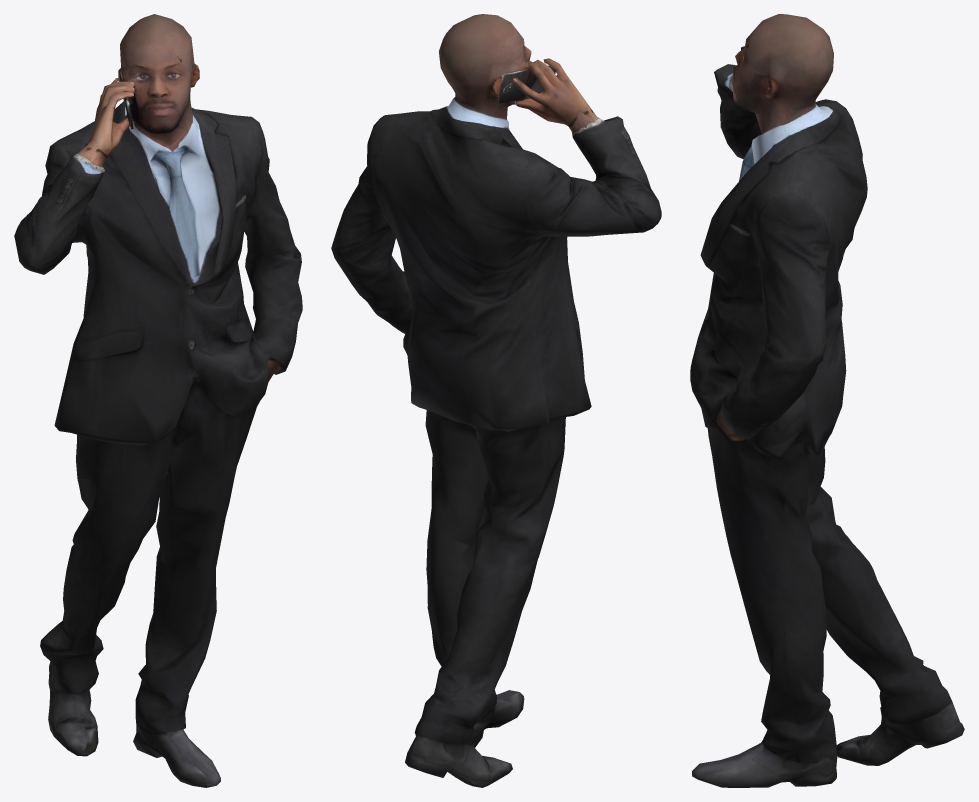
The picture shows the model from 3 angles, left to right: view 1: azimuth 30°, elevation 25°; view 2: azimuth 150°, elevation 25°; view 3: azimuth 270°, elevation 25°; orthographic projection. The views are drawn at different scales.
Parts seen in each view (by area): view 1: Mesh1_Material_1_0; view 2: Mesh1_Material_1_0; view 3: Mesh1_Material_1_0.
Part boxes in pixels (<box>): Mesh1_Material_1_0: <box>14,14,302,787</box>; Mesh1_Material_1_0: <box>331,14,661,787</box>; Mesh1_Material_1_0: <box>690,14,964,787</box>.
Bounding box in the file's own units: 0.7606 × 1.8 × 0.5892.
1 material, 1 textured.
